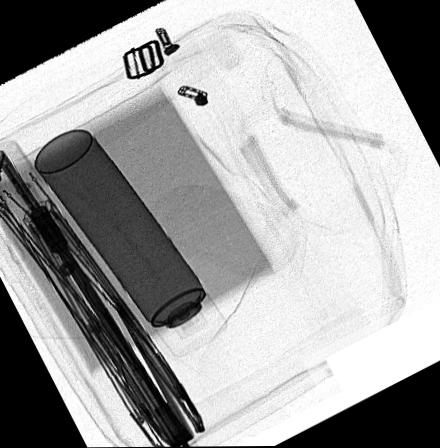Sprayer: (34, 130, 228, 356)
